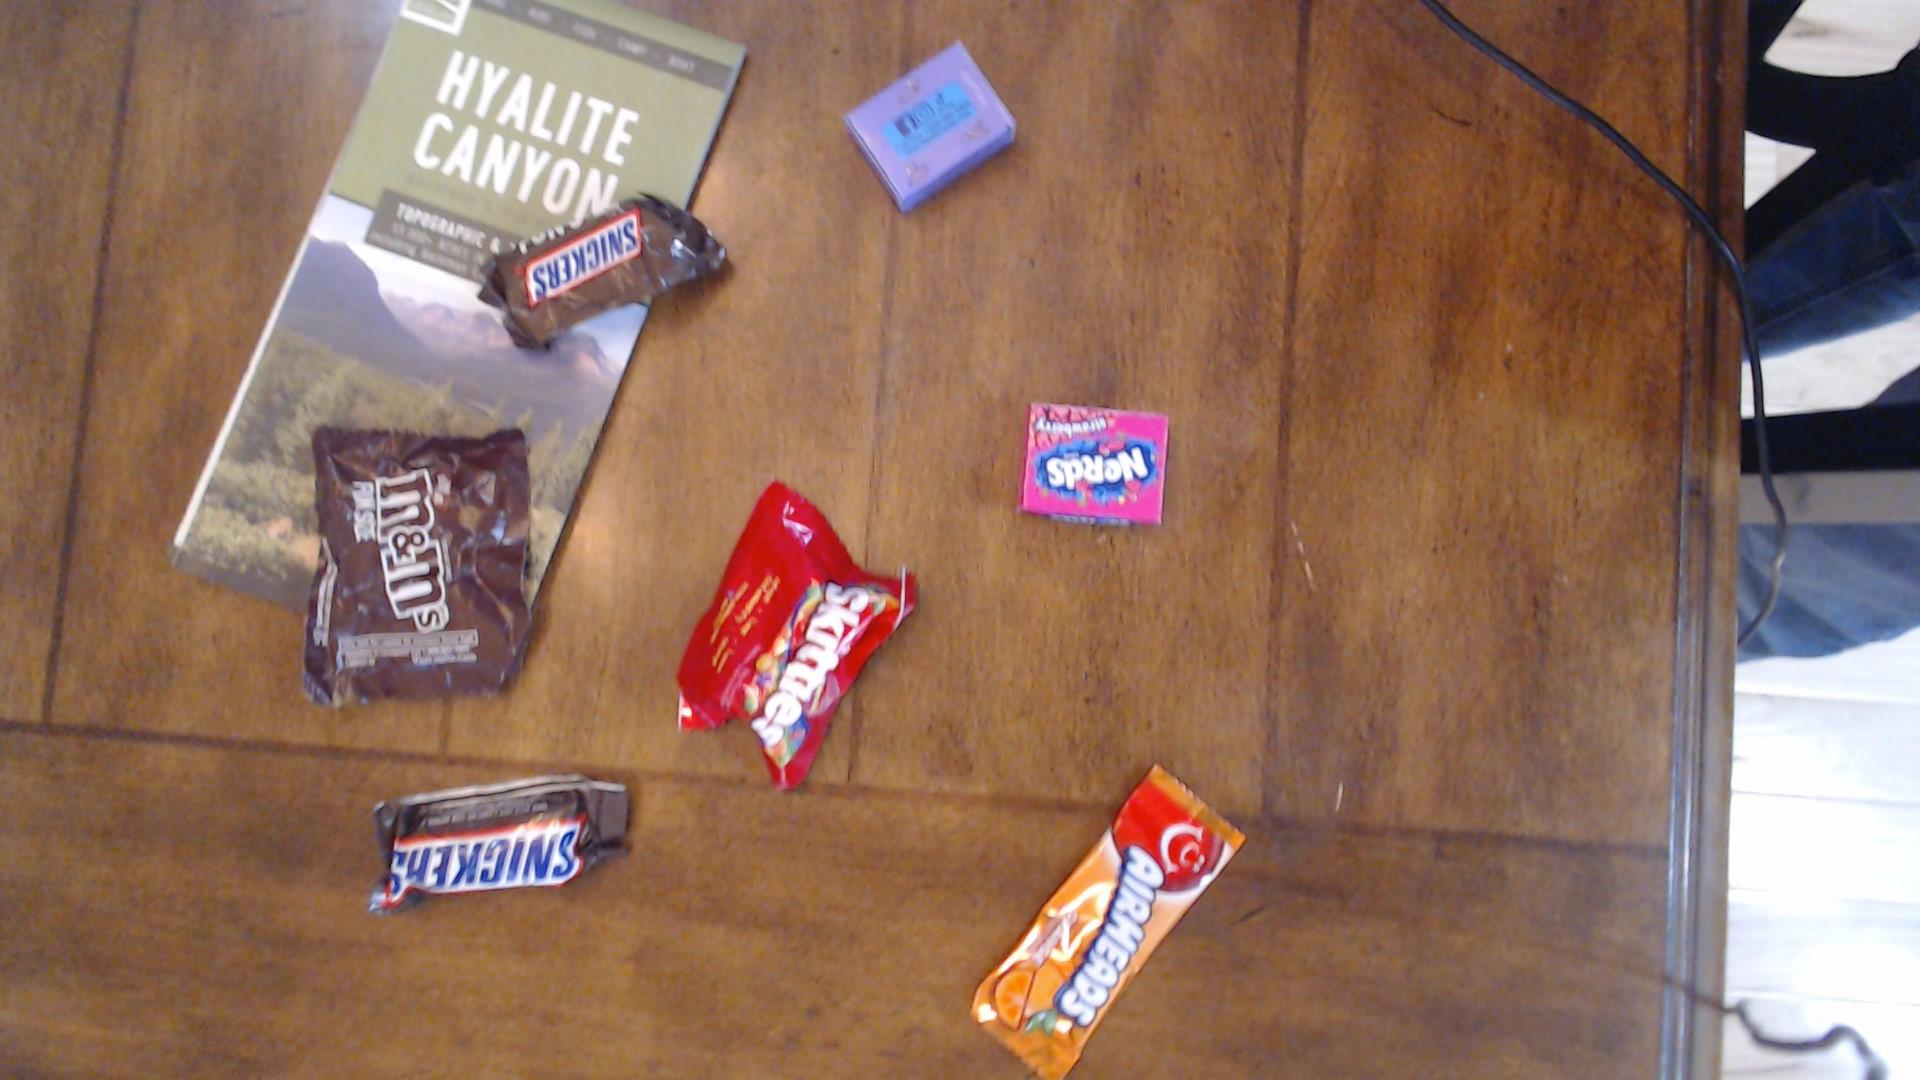MM_regular: (303, 426, 538, 707)
Snickers: (475, 194, 728, 352), (365, 774, 632, 910)
airheads: (963, 762, 1244, 1076)
nerds: (840, 36, 1025, 219), (1019, 401, 1168, 527)
skittles: (673, 479, 914, 783)
